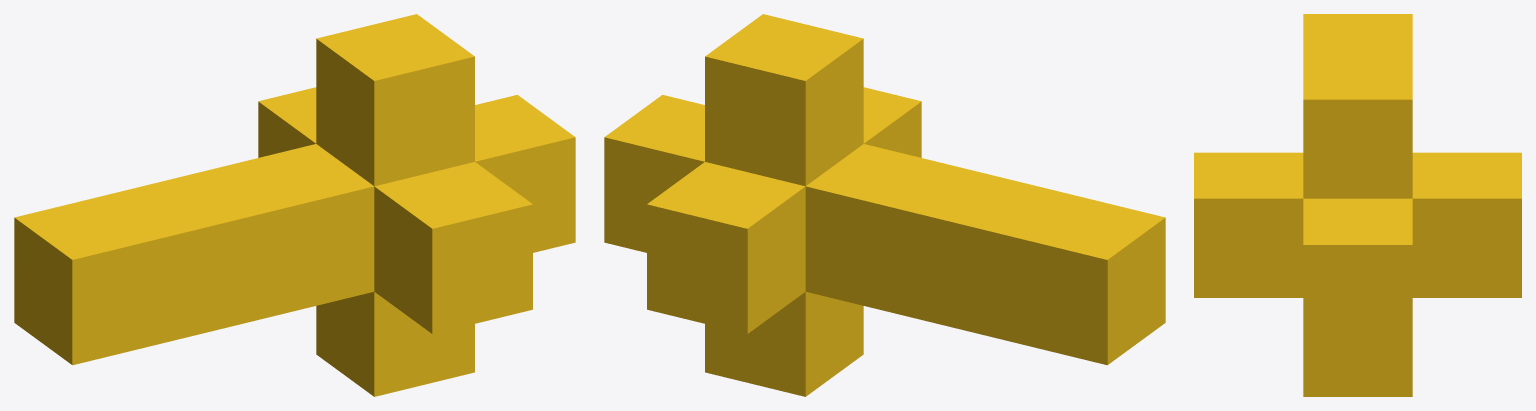
The model's file is RailProjectileSmall1.FBX.
3 views of the same model, side by side, from view 1: azimuth 30°, elevation 25°; view 2: azimuth 150°, elevation 25°; view 3: azimuth 270°, elevation 25° (orthographic). The views are drawn at different scales.
Visible parts, largest first — view 1: RailProjectileSmall1; view 2: RailProjectileSmall1; view 3: RailProjectileSmall1.
Boxes of the visible parts, x1,y1,x2,y2 form: RailProjectileSmall1: (14,14,575,396); RailProjectileSmall1: (604,14,1165,396); RailProjectileSmall1: (1194,14,1521,396).
Bounding box in the file's own units: 5 × 3 × 3.
